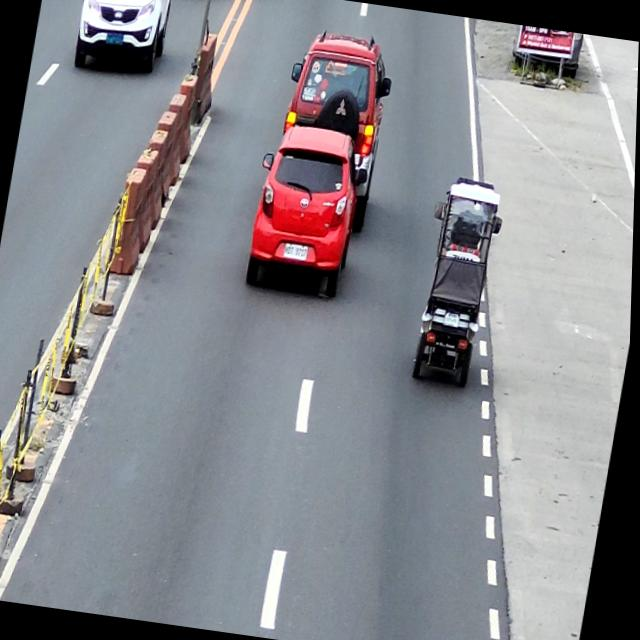Car: (268, 27, 400, 235), (242, 120, 377, 302), (69, 0, 176, 78)
E-bike: (408, 174, 509, 391)
License-Plate: (285, 243, 310, 261), (445, 312, 463, 328), (105, 32, 124, 46)
